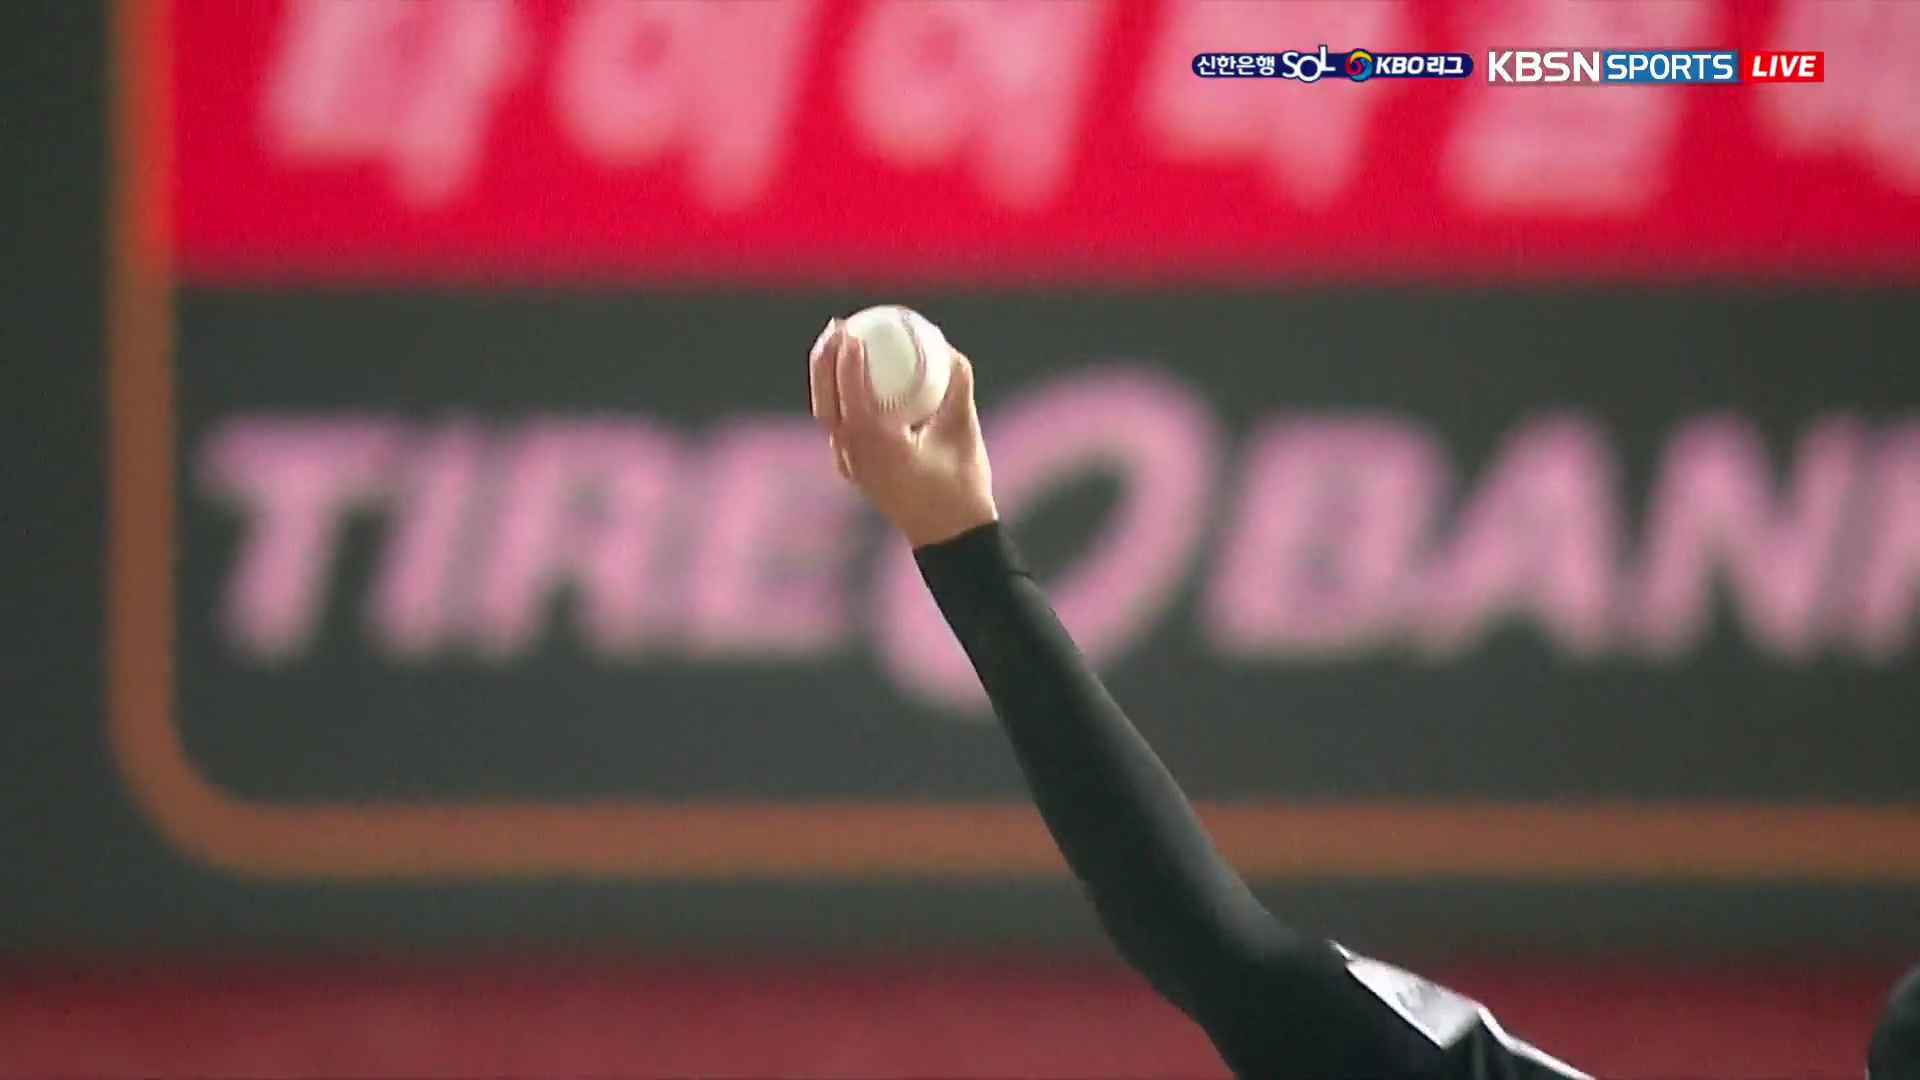zoomin_hand: (790, 291, 1284, 1000)
